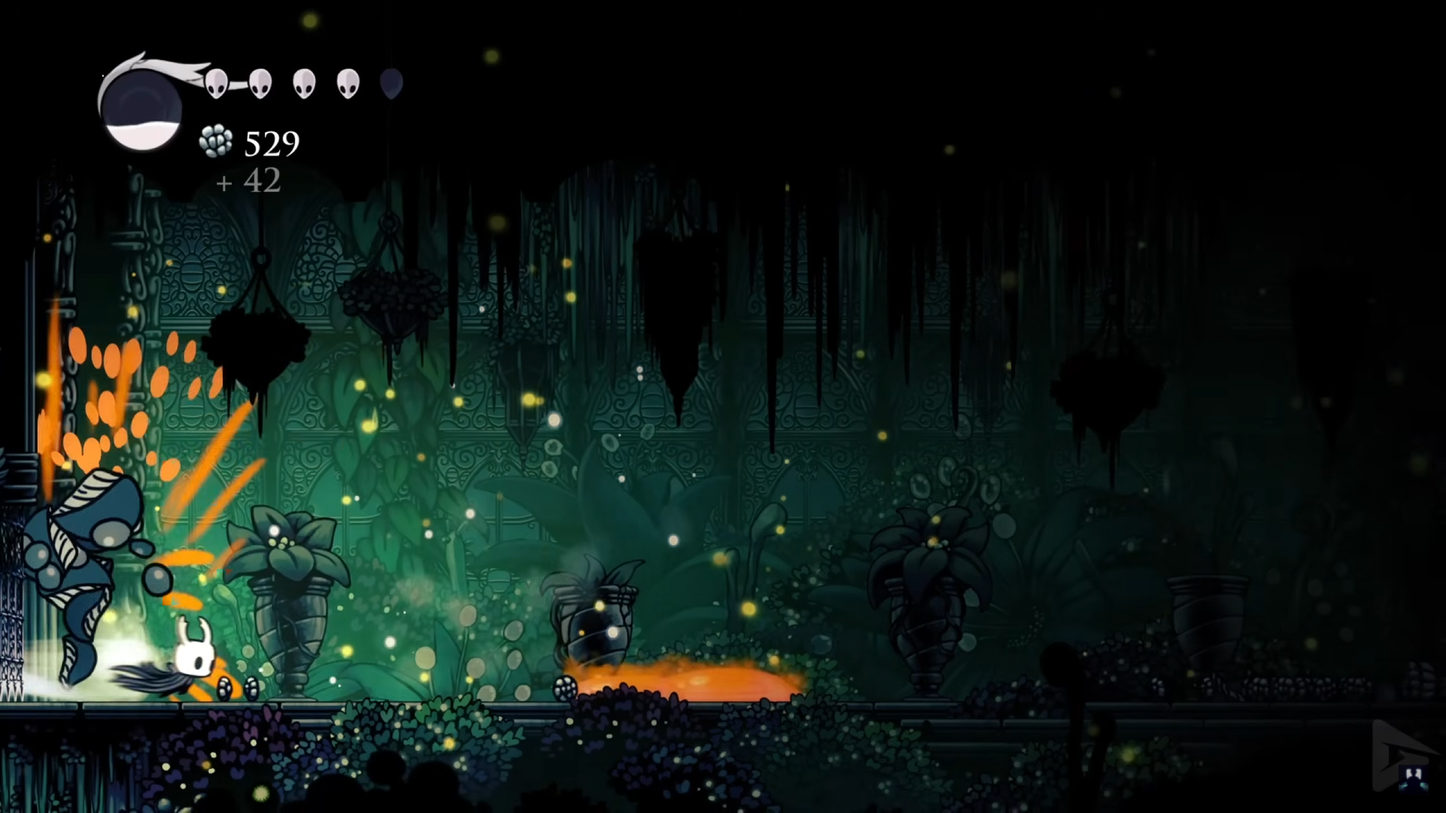HK: (162, 613, 222, 703)
